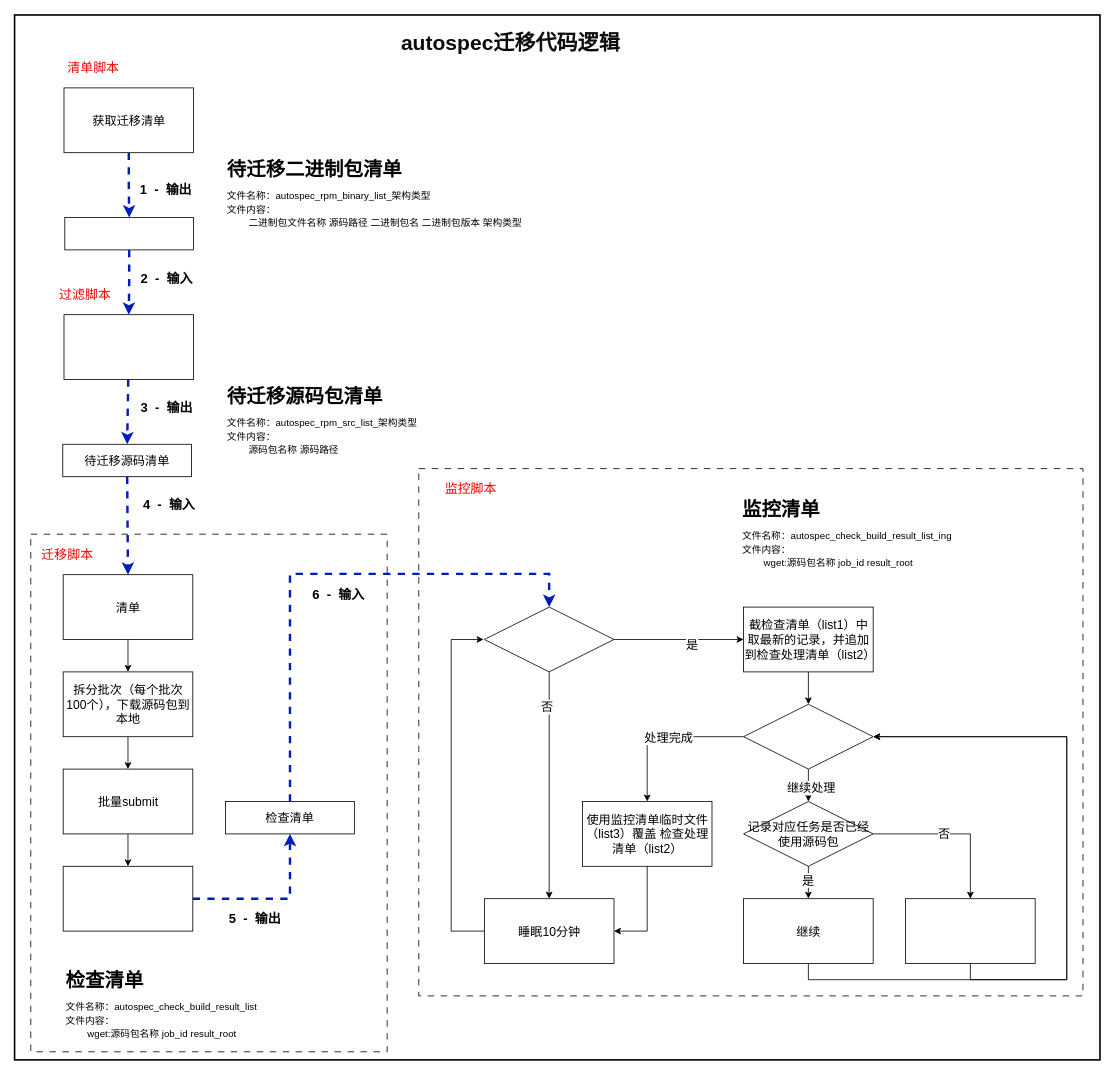
The diagram is 1115 pixels wide and 1074 high, and some of its shapes have lost their labels. Here are the shapes that lost their labels. From the top down, the box of each, then its label:
(64, 217, 194, 250): 待迁移二进制包清单
(63, 314, 194, 379): 过滤源码路径相同的记录
(484, 606, 614, 672): 检查清单 （list1） 新加数据 || 检查处理清单 （list2） 数据存在数据
(743, 703, 873, 769): 循环处理检查处理文件 （list2）
(62, 865, 193, 931): 将数据追加到检查清单（list1）
(905, 898, 1035, 963): 将记录追加到监控清单临时文件（list3）
